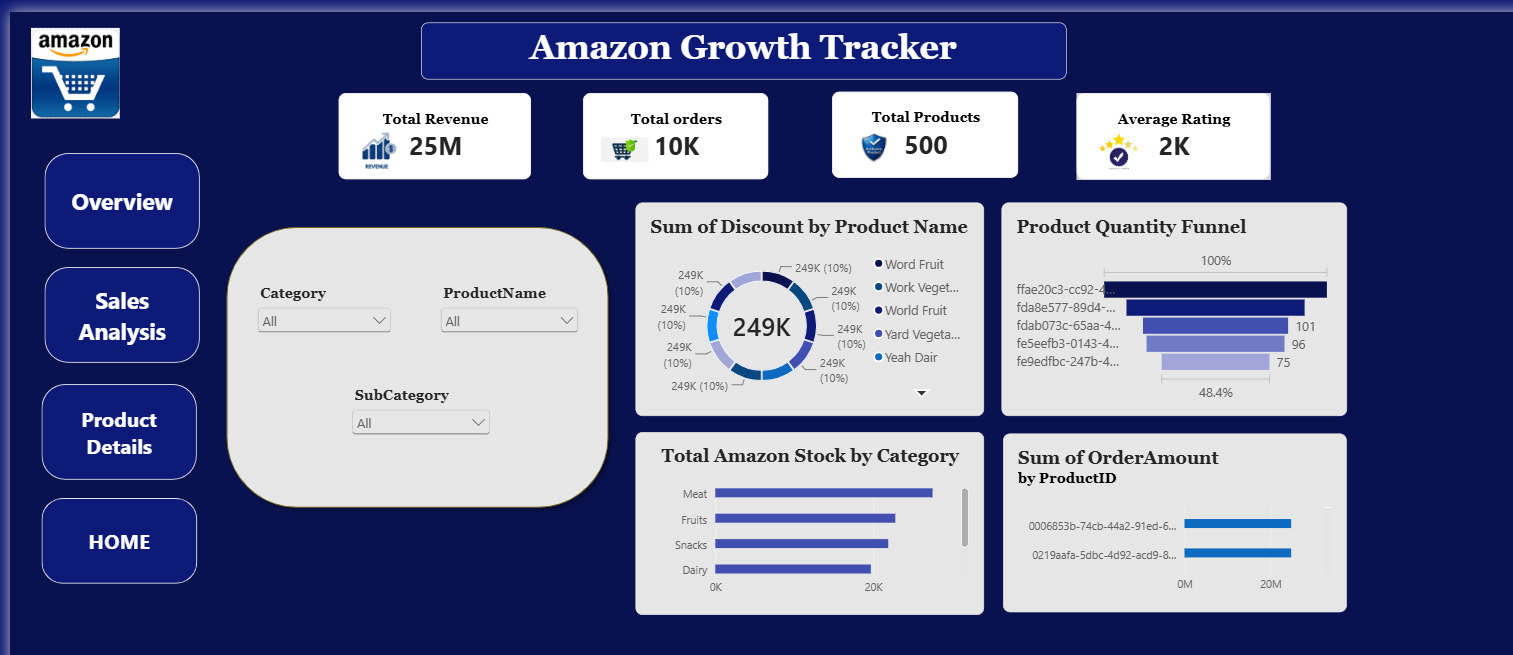

This screenshot's page, from the dashboard's own definition file:
{"tool":"powerbi","page":{"name":"Page 2","canvas":[1920,1080],"ordinal":1},"visuals":[{"type":"textbox","box":[456.6,11.8,717.1,63.2],"z":0},{"type":"shape","box":[232.3,230.6,442.2,329.7],"z":1000},{"type":"slicer","fields":{"Values":["products csv.ProductName"]},"box":[472.6,303.2,162.9,67.7],"z":2000},{"type":"slicer","fields":{"Values":["products csv.SubCategory"]},"box":[374.2,416.1,162.9,64.5],"z":3000},{"type":"slicer","fields":{"Values":["products csv.Category"]},"box":[269.4,303.2,158.1,67.7],"z":5000},{"type":"cardVisual","fields":{"Data":["customers csv.Total Revenue"]},"box":[365.1,90.5,214.3,96.8],"z":6000},{"type":"cardVisual","fields":{"Data":["customers csv.Total Orders"]},"box":[636.5,90.5,206.3,96.8],"z":7000},{"type":"cardVisual","fields":{"Data":["customers csv.Total Products"]},"box":[912.7,88.9,207.9,96.8],"z":8000},{"type":"cardVisual","fields":{"Data":["customers csv.Average Rating"]},"box":[1185.7,90.5,215.9,96.8],"z":9000},{"type":"barChart","title":"    Total Amazon Stock  by Category","fields":{"Category":["products csv.Category"],"Y":["Sum(products csv.StockQuantity)"]},"box":[695.2,466.1,387.1,203.2],"z":10000},{"type":"funnel","title":"Product Quantity Funnel","fields":{"Category":["products csv.ProductName"],"Y":["Sum(order_details csv.Quantity)"]},"box":[1101.6,210.9,443.8,237.5],"z":11000},{"type":"donutChart","title":"Sum of Discount by Product Name","fields":{"Category":["products csv.ProductName"],"Y":["Sum(orders csv.DiscountApplied)"]},"box":[695.2,211.3,387.1,237.1],"z":12000},{"type":"clusteredBarChart","fields":{"Category":["products csv.ProductName"],"Y":["Sum(orders csv.OrderAmount)"]},"box":[1101.6,470.3,443.8,198.4],"z":14000},{"type":"shape","title":"overview","box":[38.1,157.1,172.6,106.5],"z":20000},{"type":"shape","title":"sales analysis","box":[38.1,282.5,172.6,106.5],"z":21000},{"type":"shape","title":"product Details","box":[34.9,412.7,172.6,106.5],"z":22000},{"type":"image","box":[374.6,127,65.1,52.4],"z":25000},{"type":"image","box":[657.1,127,52.4,52.4],"z":26000},{"type":"image","box":[931.7,130.2,57.1,42.9],"z":27000},{"type":"image","box":[1203.2,133.3,57.1,42.9],"z":28000},{"type":"shape","title":"product Details","box":[34.9,539.7,173,95.2],"z":29000},{"type":"image","box":[23.8,11.1,98.4,112.7],"z":30000}]}

Visuals, with their boxes on the page's 1920x1080 design canvas (x1, y1, x2, y2). These are canvas units, not pixel positions in the 1513x655 screenshot, which may show the page scaled, cropped or inside an application window:
textbox: region(457, 12, 1174, 75)
shape: region(232, 231, 674, 560)
slicer - products csv.ProductName: region(473, 303, 636, 371)
slicer - products csv.SubCategory: region(374, 416, 537, 481)
slicer - products csv.Category: region(269, 303, 428, 371)
cardVisual - customers csv.Total Revenue: region(365, 90, 579, 187)
cardVisual - customers csv.Total Orders: region(636, 90, 843, 187)
cardVisual - customers csv.Total Products: region(913, 89, 1121, 186)
cardVisual - customers csv.Average Rating: region(1186, 90, 1402, 187)
"    Total Amazon Stock  by Category" barChart: region(695, 466, 1082, 669)
"Product Quantity Funnel" funnel: region(1102, 211, 1545, 448)
"Sum of Discount by Product Name" donutChart: region(695, 211, 1082, 448)
clusteredBarChart - products csv.ProductName x Sum(orders csv.OrderAmount): region(1102, 470, 1545, 669)
"overview" shape: region(38, 157, 211, 264)
"sales analysis" shape: region(38, 282, 211, 389)
"product Details" shape: region(35, 413, 208, 519)
image: region(375, 127, 440, 179)
image: region(657, 127, 710, 179)
image: region(932, 130, 989, 173)
image: region(1203, 133, 1260, 176)
"product Details" shape: region(35, 540, 208, 635)
image: region(24, 11, 122, 124)
